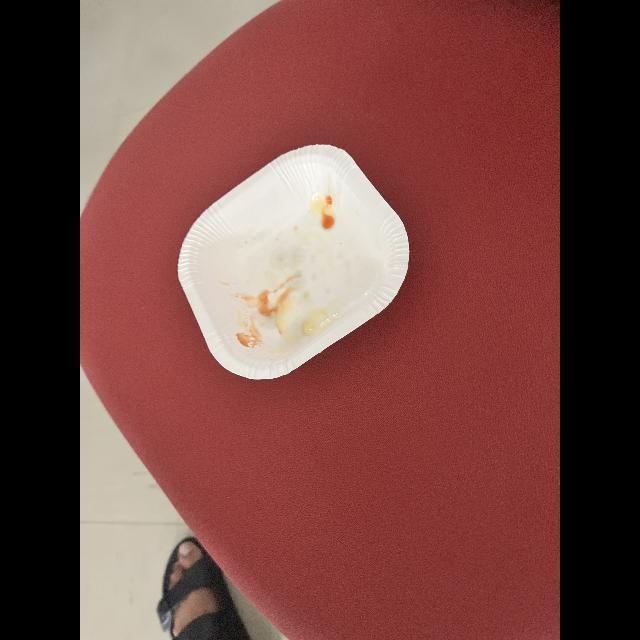cardboard_bowl: (162, 148, 418, 386)
